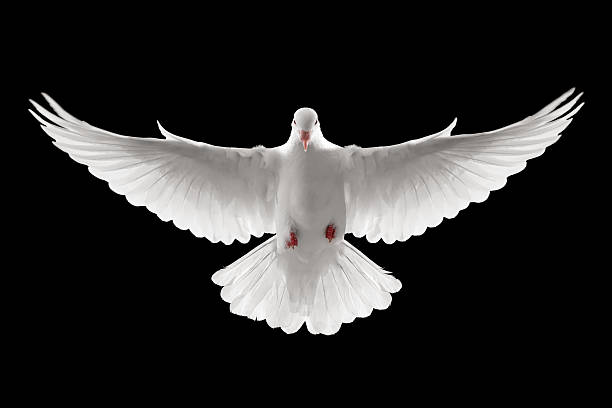Bird: (26, 81, 587, 335)
